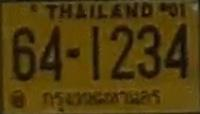1: (90, 26, 98, 80)
2: (110, 25, 133, 78)
3: (136, 24, 160, 78)
4: (164, 22, 186, 78), (39, 25, 61, 80)
6: (11, 26, 35, 80)
BKK: (39, 86, 166, 112)
